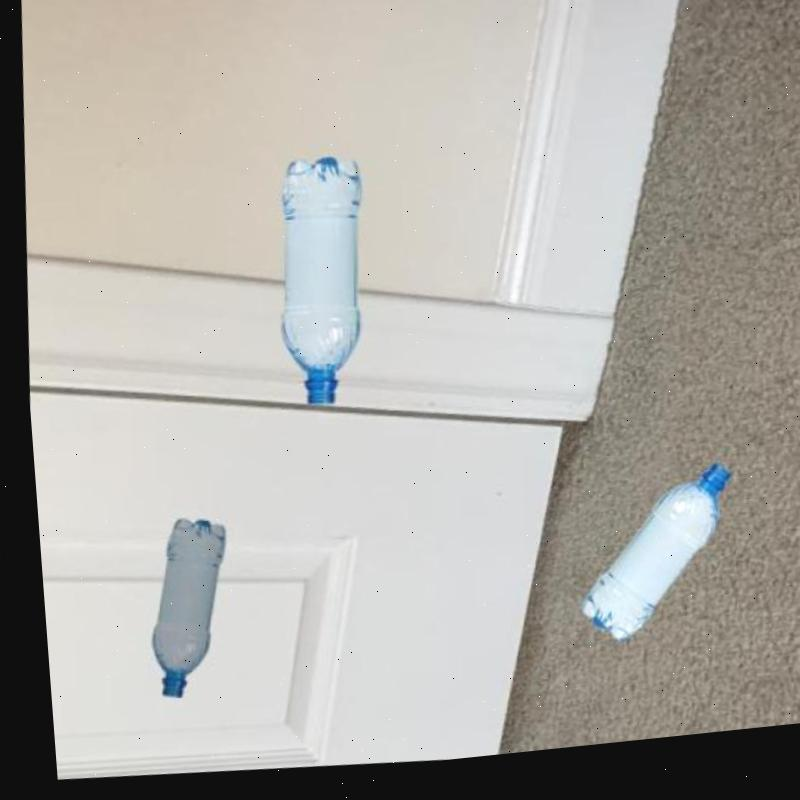botella: (564, 467, 734, 663), (261, 158, 369, 414), (130, 514, 229, 706)
